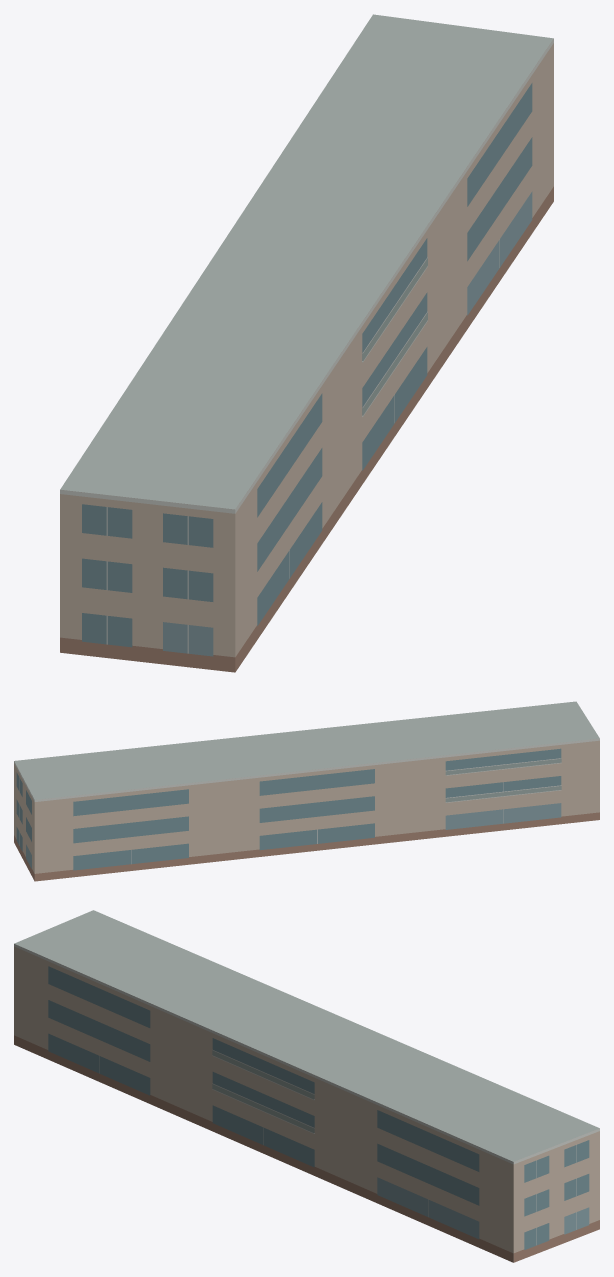
The model's file is survey-upis-32756117.glb.
The picture shows the model from 3 angles, top to bottom: view 1: azimuth 30°, elevation 25°; view 2: azimuth 150°, elevation 25°; view 3: azimuth 270°, elevation 25°; orthographic projection. The views are drawn at different scales.
Parts seen in each view (by area): view 1: survey-upis-32756117.tmp; view 2: survey-upis-32756117.tmp; view 3: survey-upis-32756117.tmp.
Part boxes in pixels (left/top/right/bottom): survey-upis-32756117.tmp: left=60, top=14, right=553, bottom=672; survey-upis-32756117.tmp: left=14, top=701, right=599, bottom=881; survey-upis-32756117.tmp: left=14, top=910, right=599, bottom=1262.
Size of the model in its own units: 48.92 by 9.15 by 48.11.
